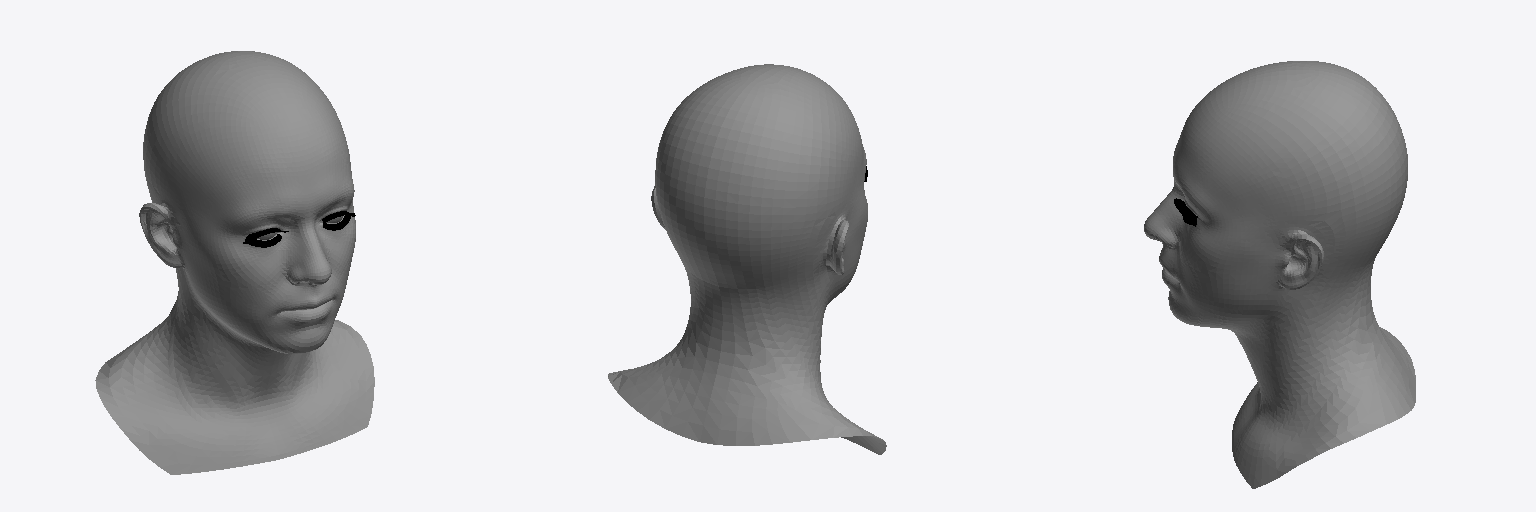
The model's file is identity029.obj.
The picture shows the model from 3 angles: view 1: azimuth 30°, elevation 25°; view 2: azimuth 150°, elevation 25°; view 3: azimuth 270°, elevation 25°; orthographic projection.
Bounding box in the file's own units: 24.85 × 33.83 × 22.47.